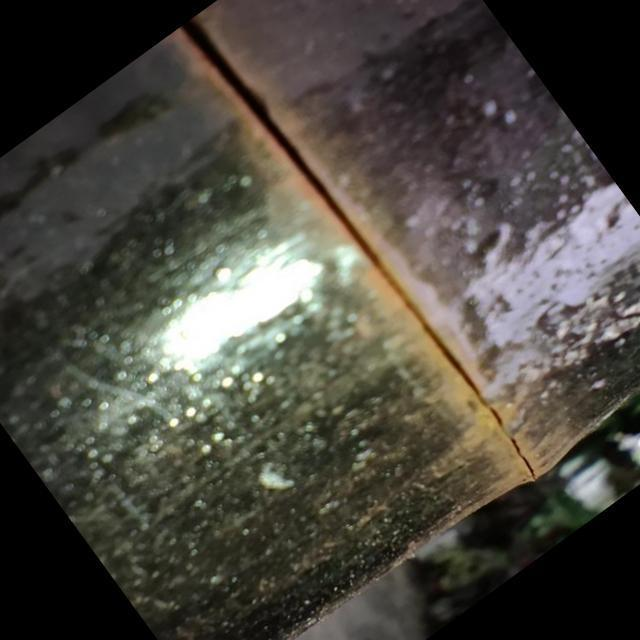defect: (174, 15, 537, 484)
